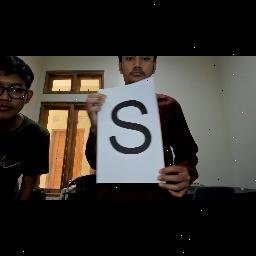s: (105, 97, 157, 161)
